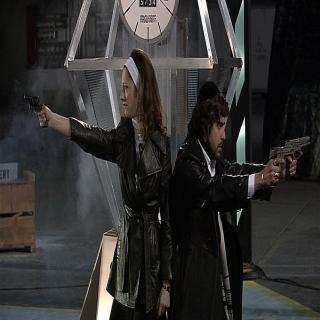gun: (282, 134, 314, 180), (267, 143, 291, 190), (22, 92, 50, 130)
